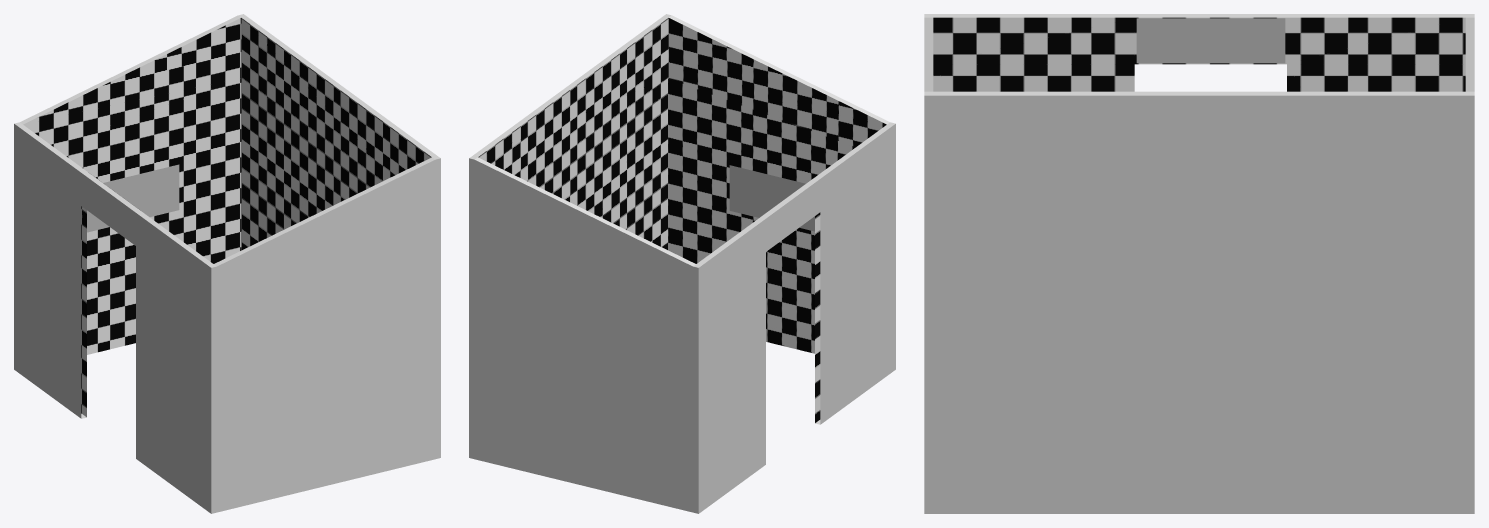
Rendered from ShitShack.FBX.
3 views of the same model, side by side, from view 1: azimuth 30°, elevation 25°; view 2: azimuth 150°, elevation 25°; view 3: azimuth 270°, elevation 25° (orthographic). The views are drawn at different scales.
Visible parts, largest first — view 1: Wall003, Inside_Huussi, Arrow_Sign001; view 2: Wall003, Inside_Huussi, Object001, Arrow_Sign; view 3: Wall003, Inside_Huussi, EXIT_SIGN.
Part boxes in pixels (bbox=[...]): Wall003: bbox=[14, 14, 440, 513]; Inside_Huussi: bbox=[23, 18, 431, 417]; Arrow_Sign001: bbox=[87, 164, 179, 232]; Wall003: bbox=[469, 14, 895, 513]; Inside_Huussi: bbox=[478, 18, 886, 422]; Object001: bbox=[668, 78, 855, 353]; Arrow_Sign: bbox=[729, 165, 814, 231]; Wall003: bbox=[924, 14, 1474, 513]; Inside_Huussi: bbox=[933, 17, 1465, 91]; EXIT_SIGN: bbox=[1136, 18, 1285, 63].
Bounding box in the file's own units: 205 × 256 × 305.
